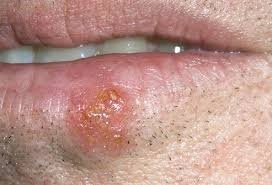Ulcer: (73, 87, 131, 155)
